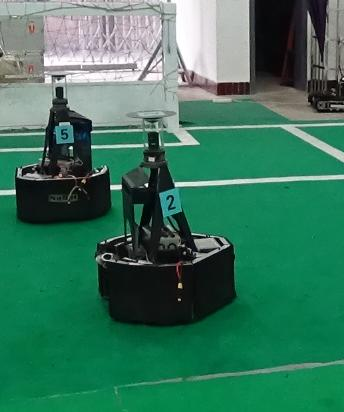robot: (87, 106, 241, 330), (13, 66, 113, 225)
